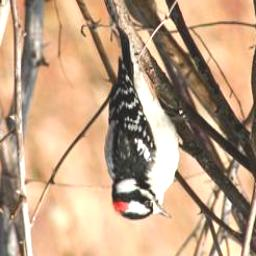Woodpecker: (105, 25, 185, 221)
